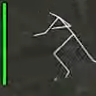hacks_2: (2, 2, 96, 86)
